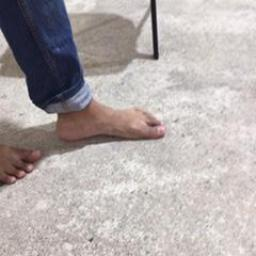Medial View -Left Foot-: (46, 83, 171, 152)
